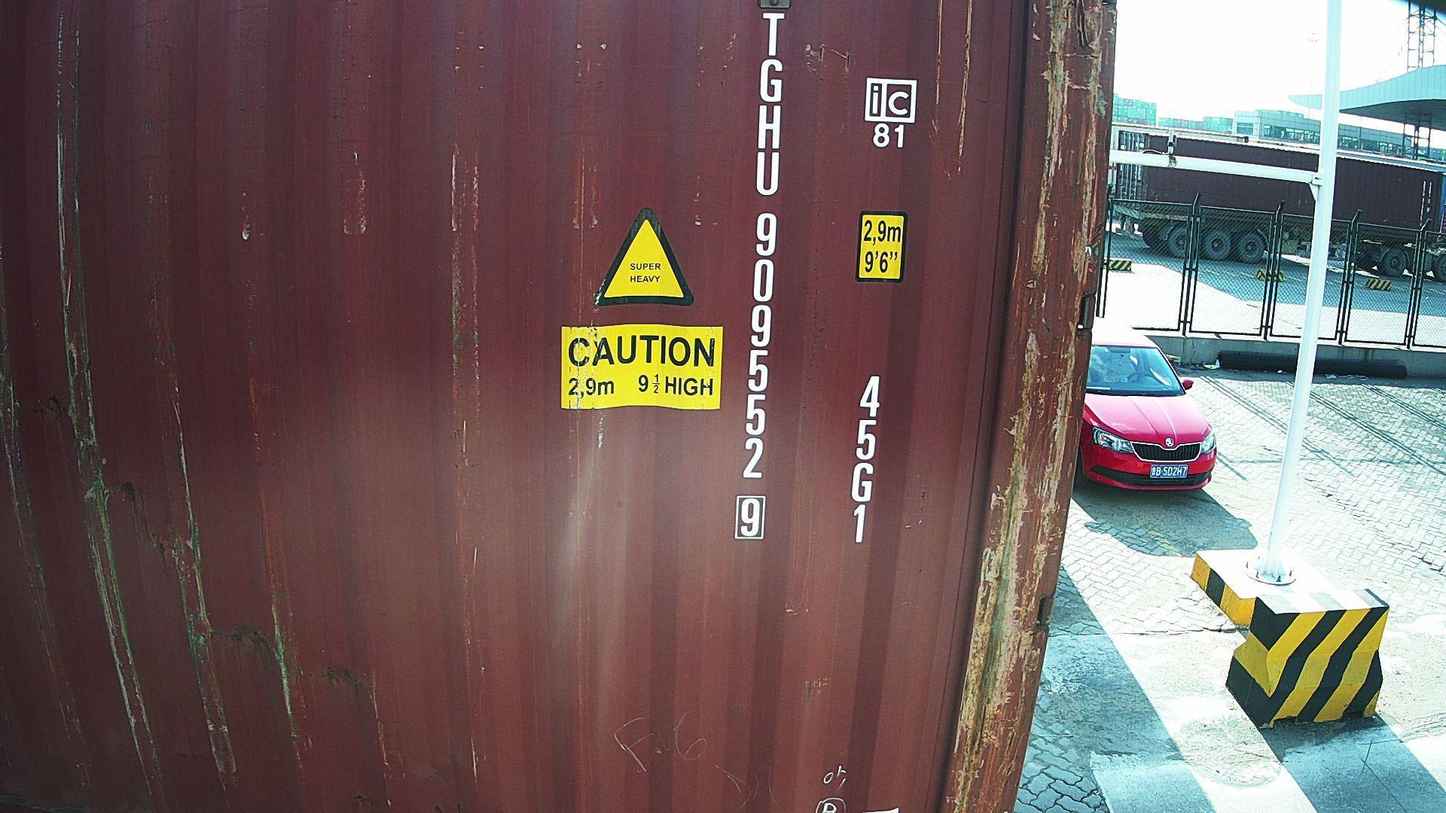container-numbers: (730, 6, 791, 548), (846, 370, 886, 550)
